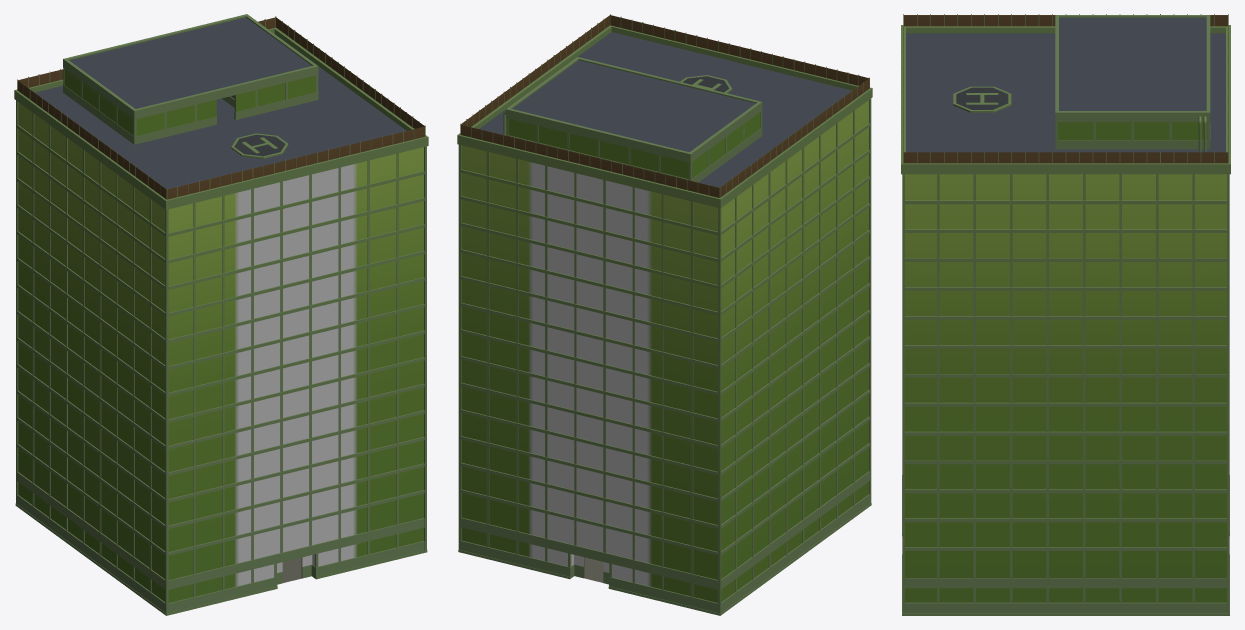
Rendered from House_51.fbx.
3 renders of one model, left to right at view 1: azimuth 30°, elevation 25°; view 2: azimuth 150°, elevation 25°; view 3: azimuth 270°, elevation 25°, orthographic. The views are drawn at different scales.
Parts seen in each view (by area): view 1: House_51; view 2: House_51; view 3: House_51.
Part boxes in pixels (bbox=[...]): House_51: bbox=[14, 14, 428, 615]; House_51: bbox=[457, 14, 872, 615]; House_51: bbox=[901, 14, 1230, 615].
Bounding box in the file's own units: 24 × 38.78 × 24.
